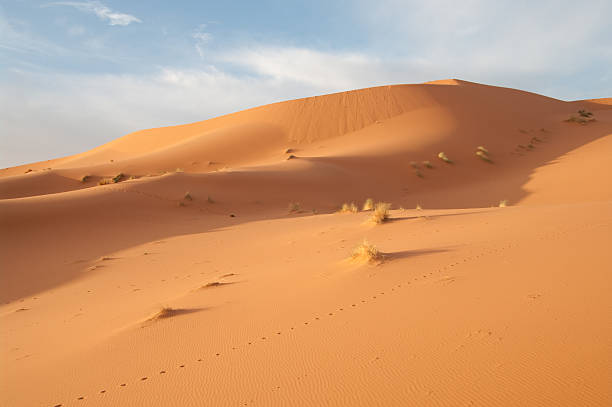human_foot_print: (326, 290, 386, 316)
